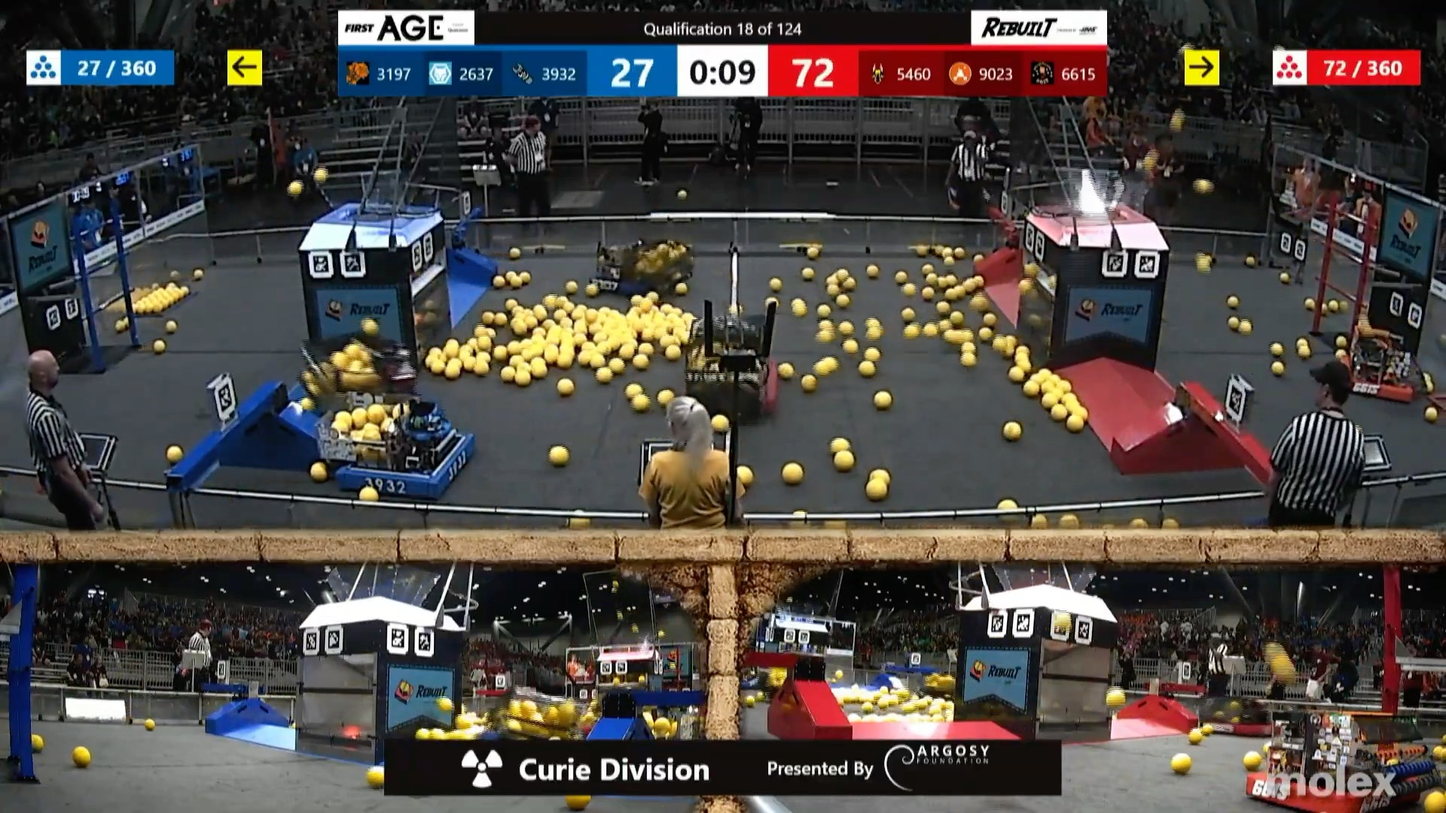bumpers: (1232, 754, 1439, 813), (332, 432, 484, 500), (684, 354, 783, 416), (1317, 358, 1426, 406), (590, 260, 697, 295)
